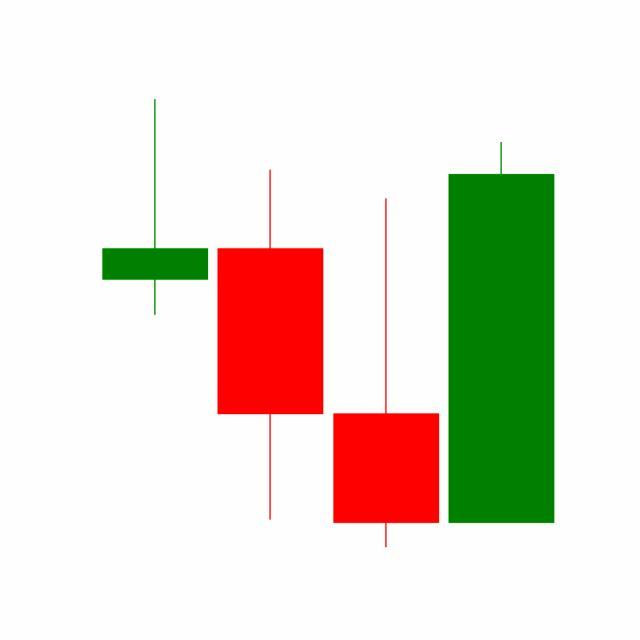Marubozu: (444, 139, 560, 528)
